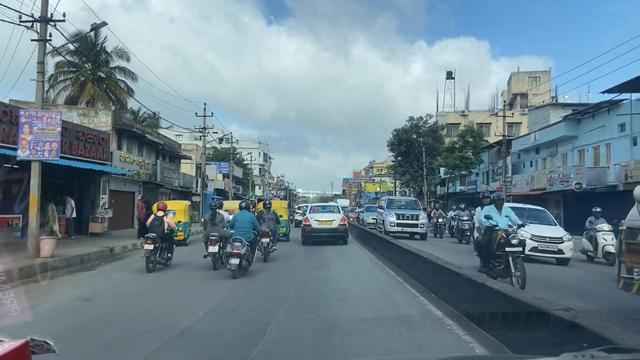LMV: (226, 195, 254, 283), (301, 202, 348, 247), (257, 198, 283, 266)
RoadDamages: (246, 298, 280, 352)
